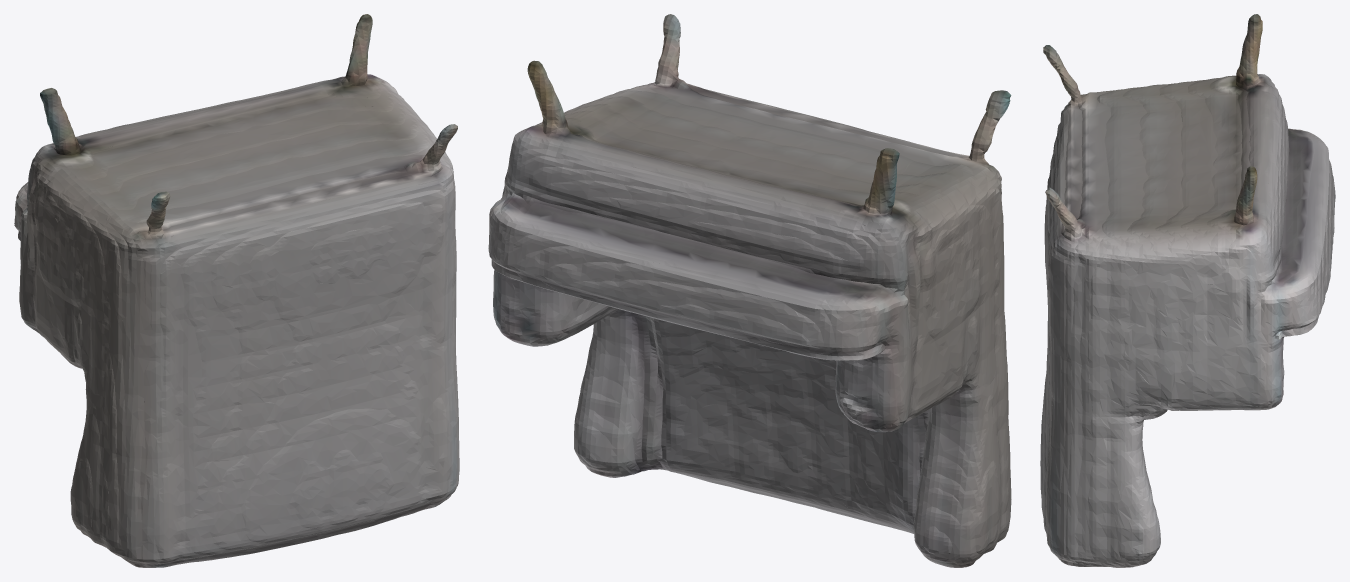
Rendered from charm-velvet-arm-chair-in-dark-grey-colour-copy.glb.
3 renders of one model, left to right at view 1: azimuth 30°, elevation 25°; view 2: azimuth 150°, elevation 25°; view 3: azimuth 270°, elevation 25°, orthographic. The views are drawn at different scales.
Visible parts, largest first — view 1: orient; view 2: orient; view 3: orient.
Boxes of the visible parts, x1,y1,x2,y2 form: orient: (14, 14, 459, 567); orient: (488, 14, 1011, 567); orient: (1040, 14, 1335, 567).
Size of the model in its own units: 0.99 by 1.06 by 0.69.
